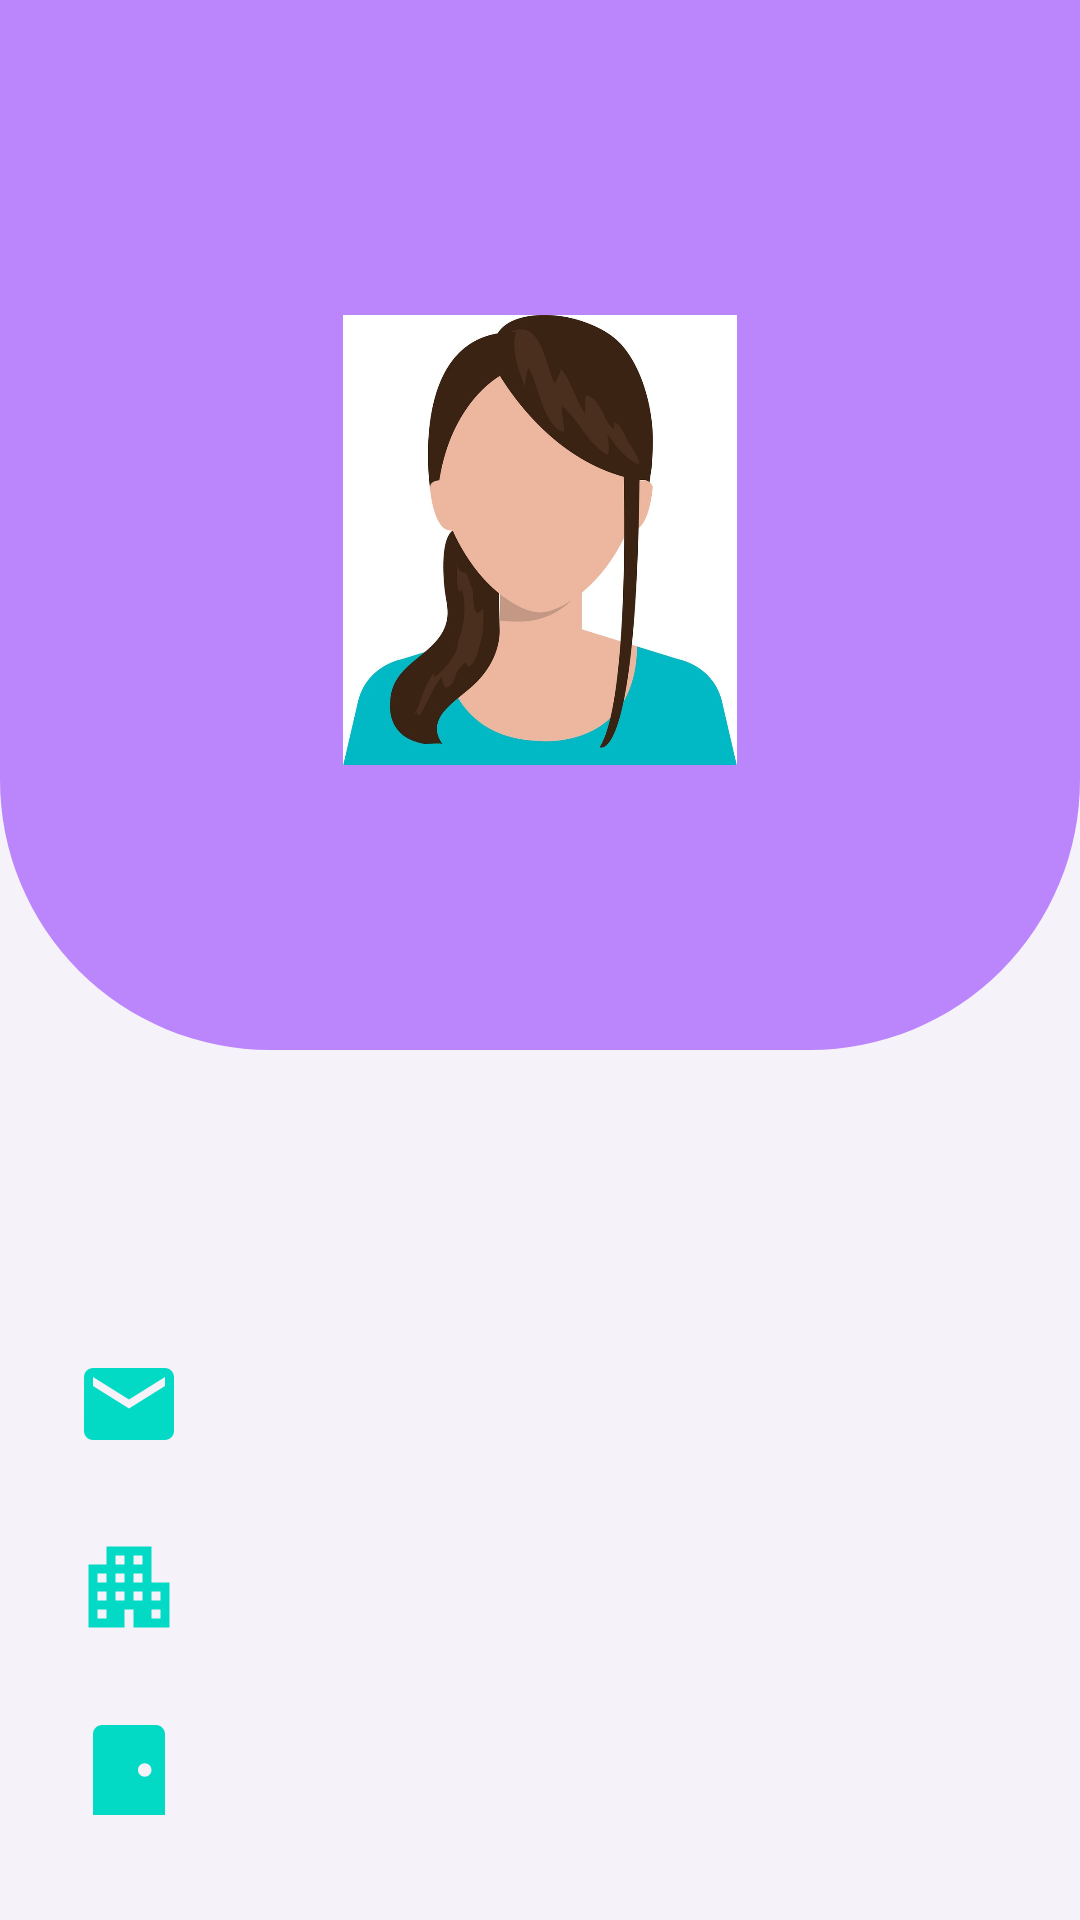

Named icons in this screenshot (1080 × 1920) and their bounding boxes, bbox(x1, y1, x2, y2):
apartment: bbox(88, 1546, 170, 1628)
door: bbox(93, 1725, 165, 1815)
email: bbox(84, 1368, 174, 1440)
